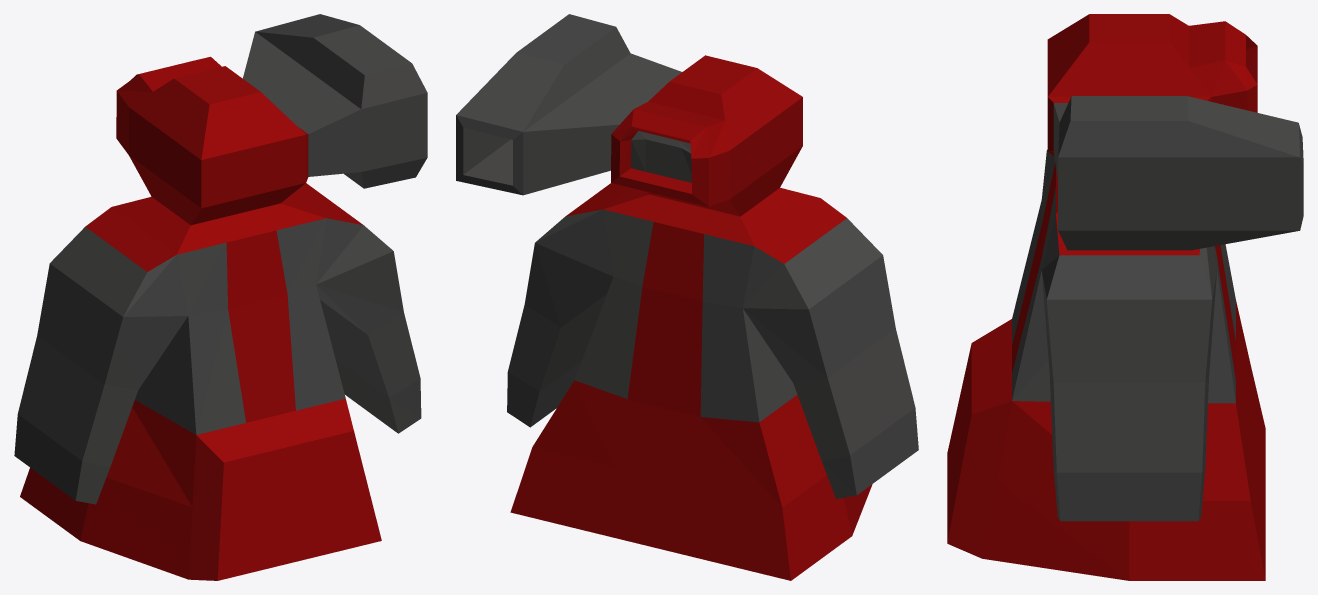
File: BOSS_PROTO2.fbx
3 views of the same model, side by side, from view 1: azimuth 30°, elevation 25°; view 2: azimuth 150°, elevation 25°; view 3: azimuth 270°, elevation 25° (orthographic). The views are drawn at different scales.
Parts seen in each view (by area): view 1: Empty_Mesh; view 2: Empty_Mesh; view 3: Empty_Mesh.
Part boxes in pixels (x1,y1,x2,y2): Empty_Mesh: (14,14,427,580); Empty_Mesh: (456,14,918,580); Empty_Mesh: (947,14,1303,580).
Bounding box in the file's own units: 1240 × 1431 × 968.
